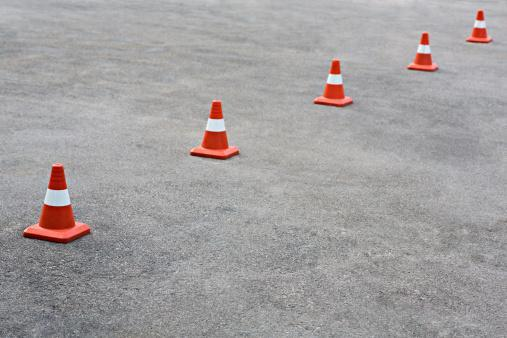Cone: (24, 163, 92, 244), (190, 99, 241, 162), (312, 58, 354, 108), (407, 30, 442, 72), (466, 8, 494, 45)
